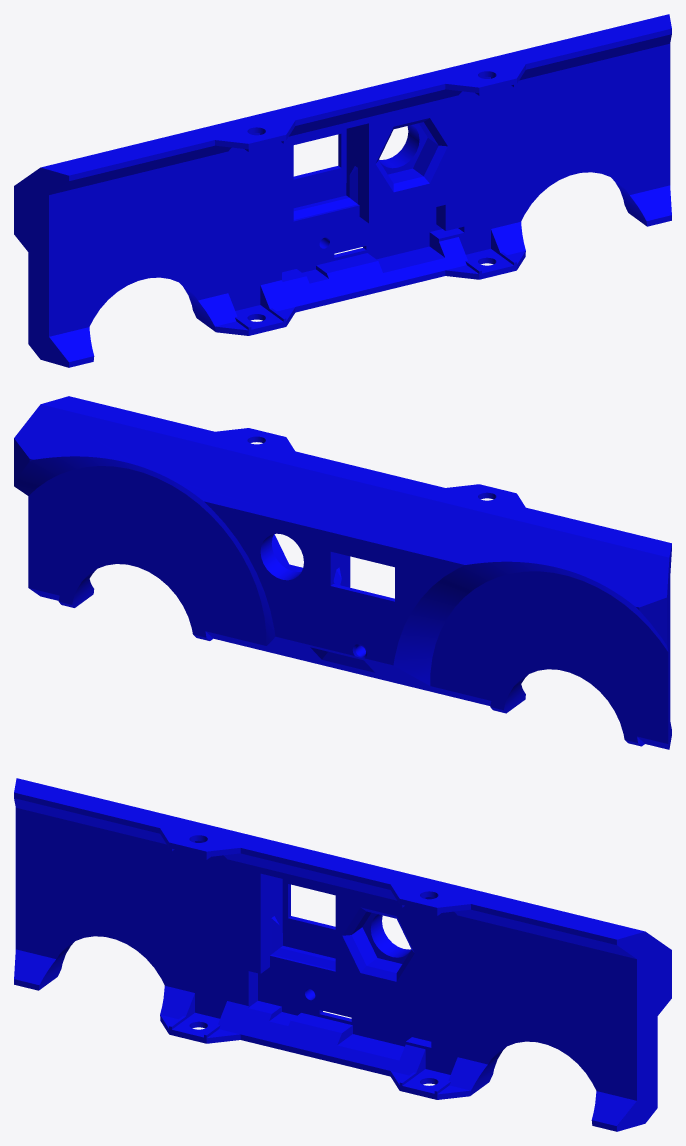
3 views of the same model, one above another, from view 1: azimuth 30°, elevation 25°; view 2: azimuth 150°, elevation 25°; view 3: azimuth 330°, elevation 25° (orthographic).
Visible parts, largest first — view 1: node0; view 2: node0; view 3: node0.
Part boxes in pixels (left/top/right/bottom): node0: left=14, top=14, right=671, bottom=367; node0: left=14, top=396, right=671, bottom=749; node0: left=14, top=778, right=671, bottom=1131.
Size of the model in its own units: 0.2436 by 0.0685 by 0.0312.
